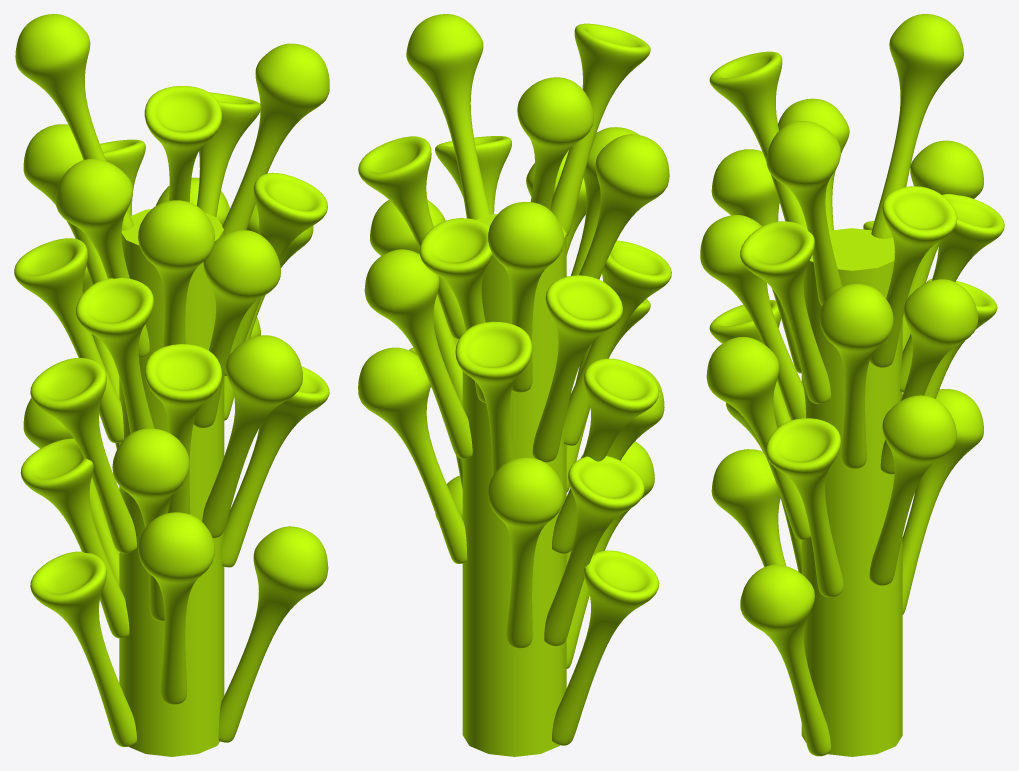
Rendered from AlgaUvaMarina.fbx.
3 renders of one model, left to right at view 1: azimuth 30°, elevation 25°; view 2: azimuth 150°, elevation 25°; view 3: azimuth 270°, elevation 25°, orthographic. The views are drawn at different scales.
Parts seen in each view (by area): view 1: Tallo; view 2: Tallo; view 3: Tallo.
Part boxes in pixels (box(x1,y1,x2,y2)): Tallo: box(14, 14, 329, 756); Tallo: box(358, 14, 671, 756); Tallo: box(700, 14, 1004, 756).
Size of the model in its own units: 27.51 by 67.81 by 27.42.
